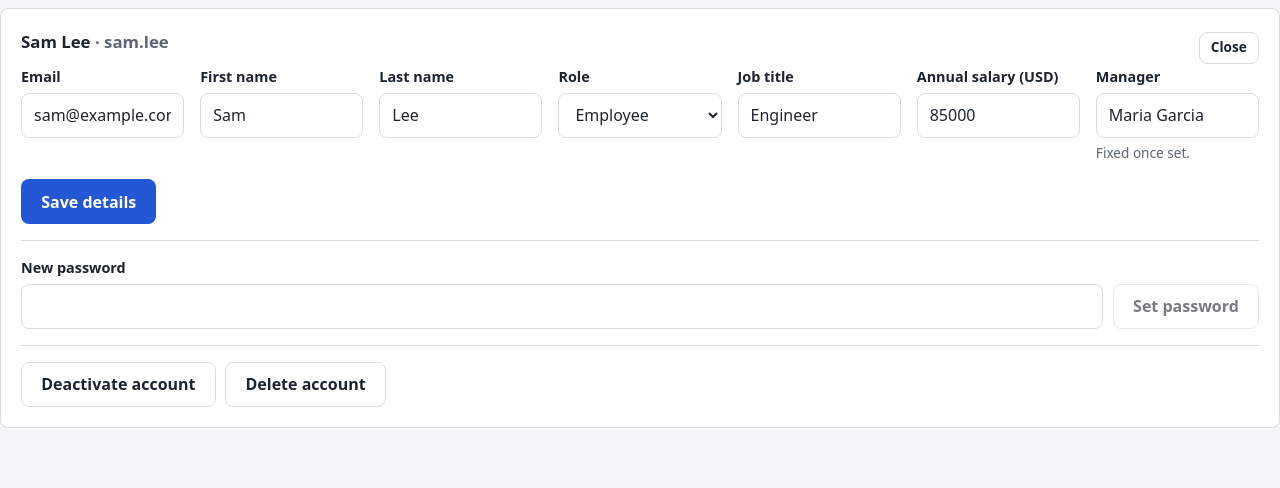
Test: AccountPanel save details › sends trimmed details for an employee and reports success
The image size is (1280, 488).
Replace the text in the field labelled "Email" with " new@example.com " at coordinates (103, 115), box [21,93,184,138]
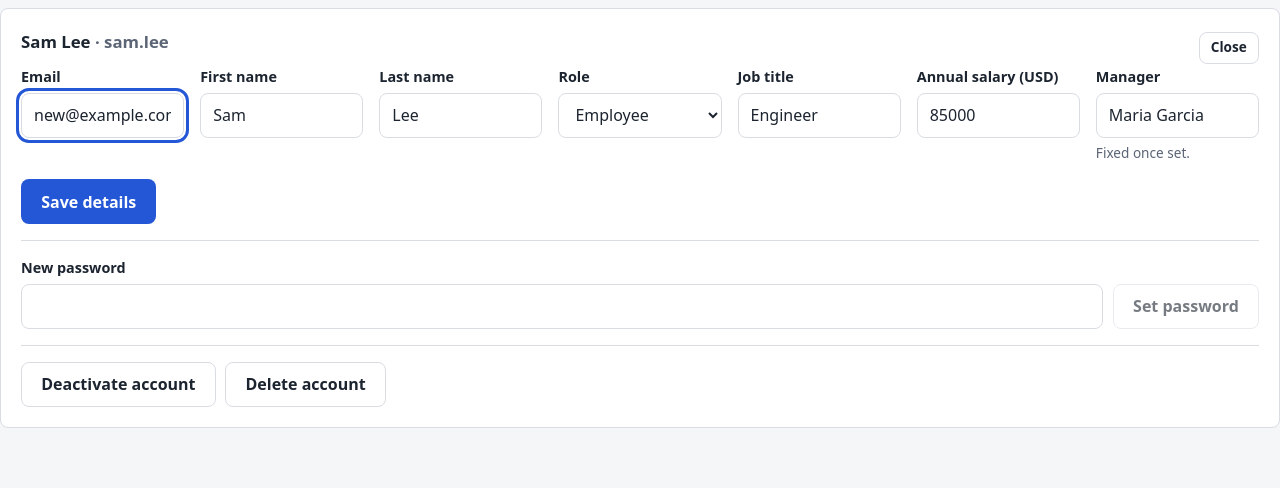
Select "Manager" in the dropdown labelled "Role" at coordinates (640, 115), box [558,93,722,138]
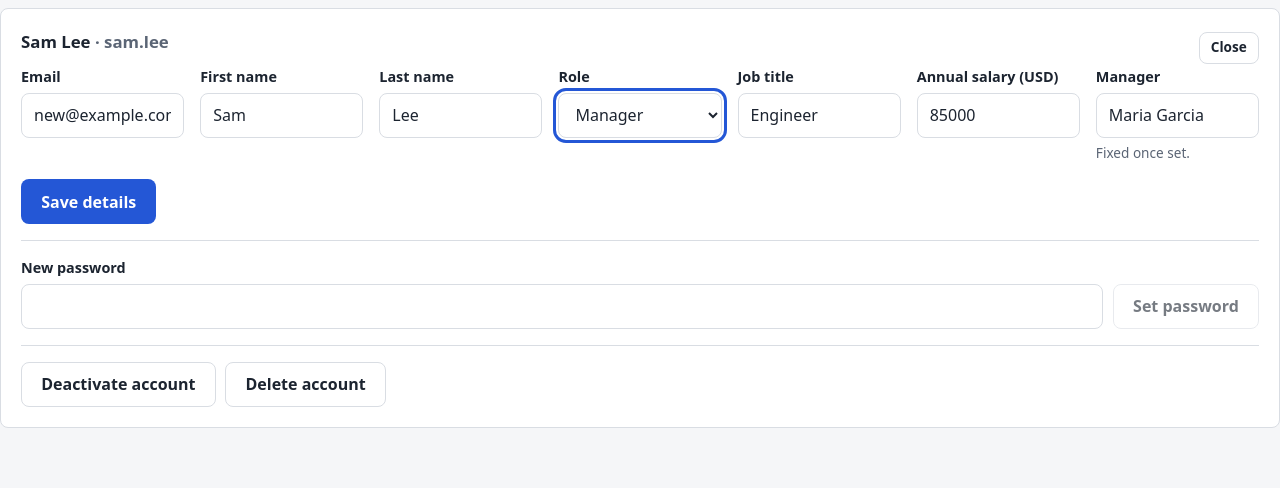
Replace the text in the field labelled "Job title" with " Lead " at coordinates (819, 115), box [738,93,901,138]
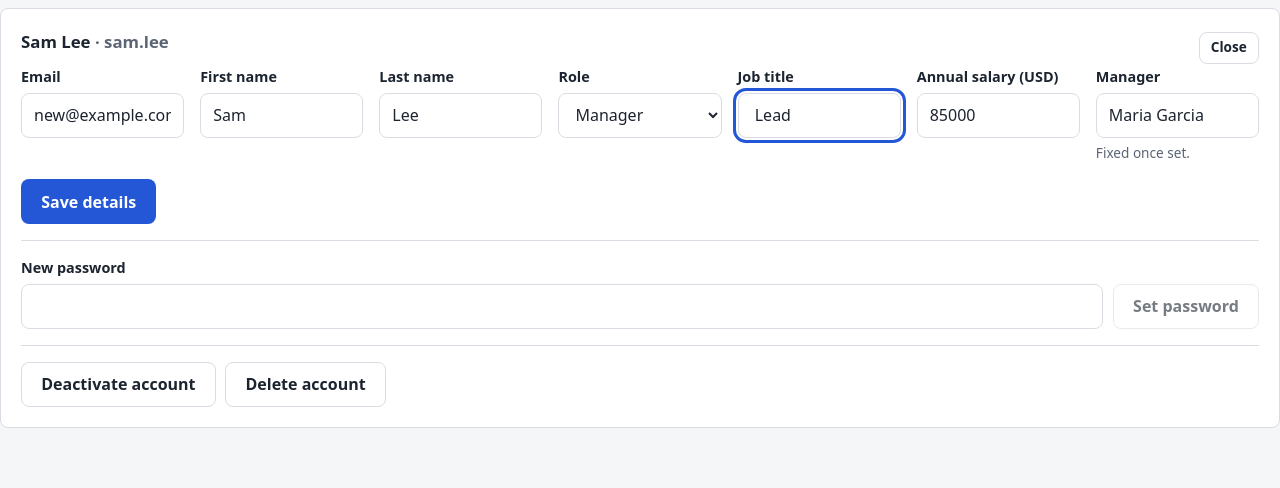
Replace the text in the number field labelled "Annual salary (USD)" with "90000.5" at coordinates (998, 115), box [917,93,1080,138]
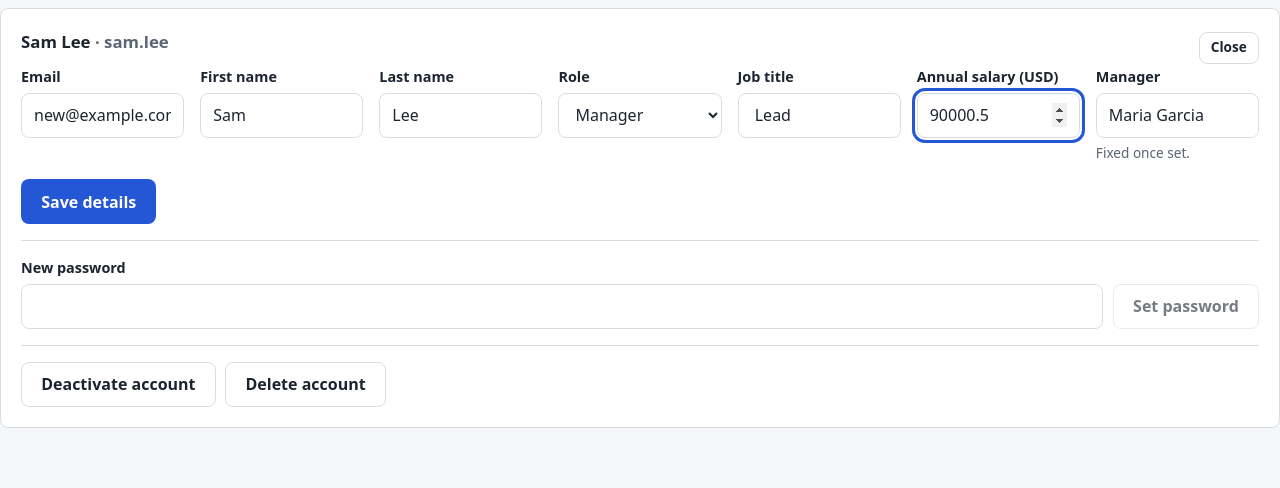
Click the button "Save details".
click(89, 202)  # box [21,179,156,224]
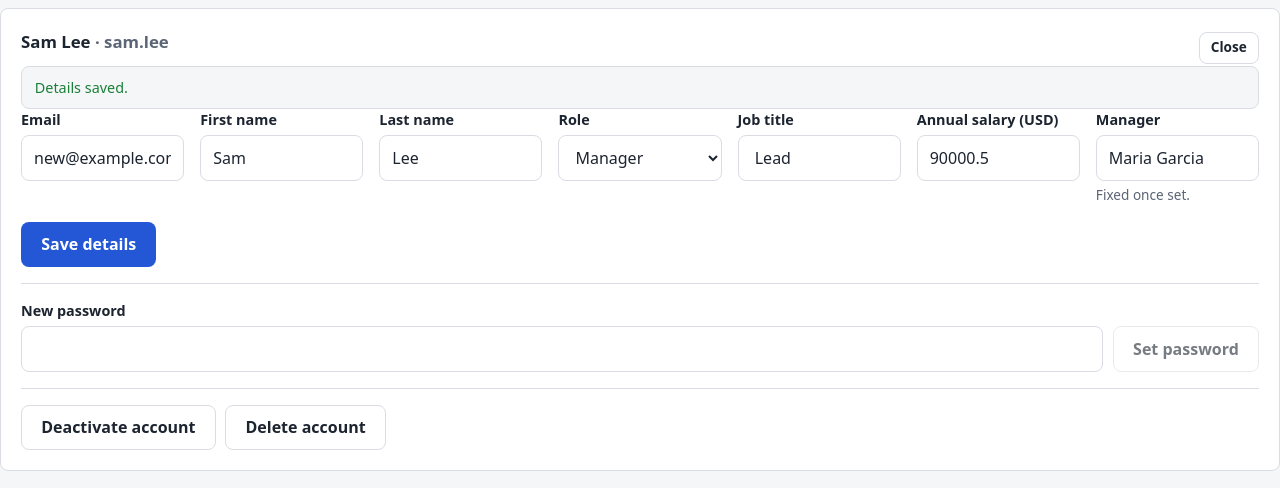
Expected: the message reads "Details saved.", [35,78,128,97]
